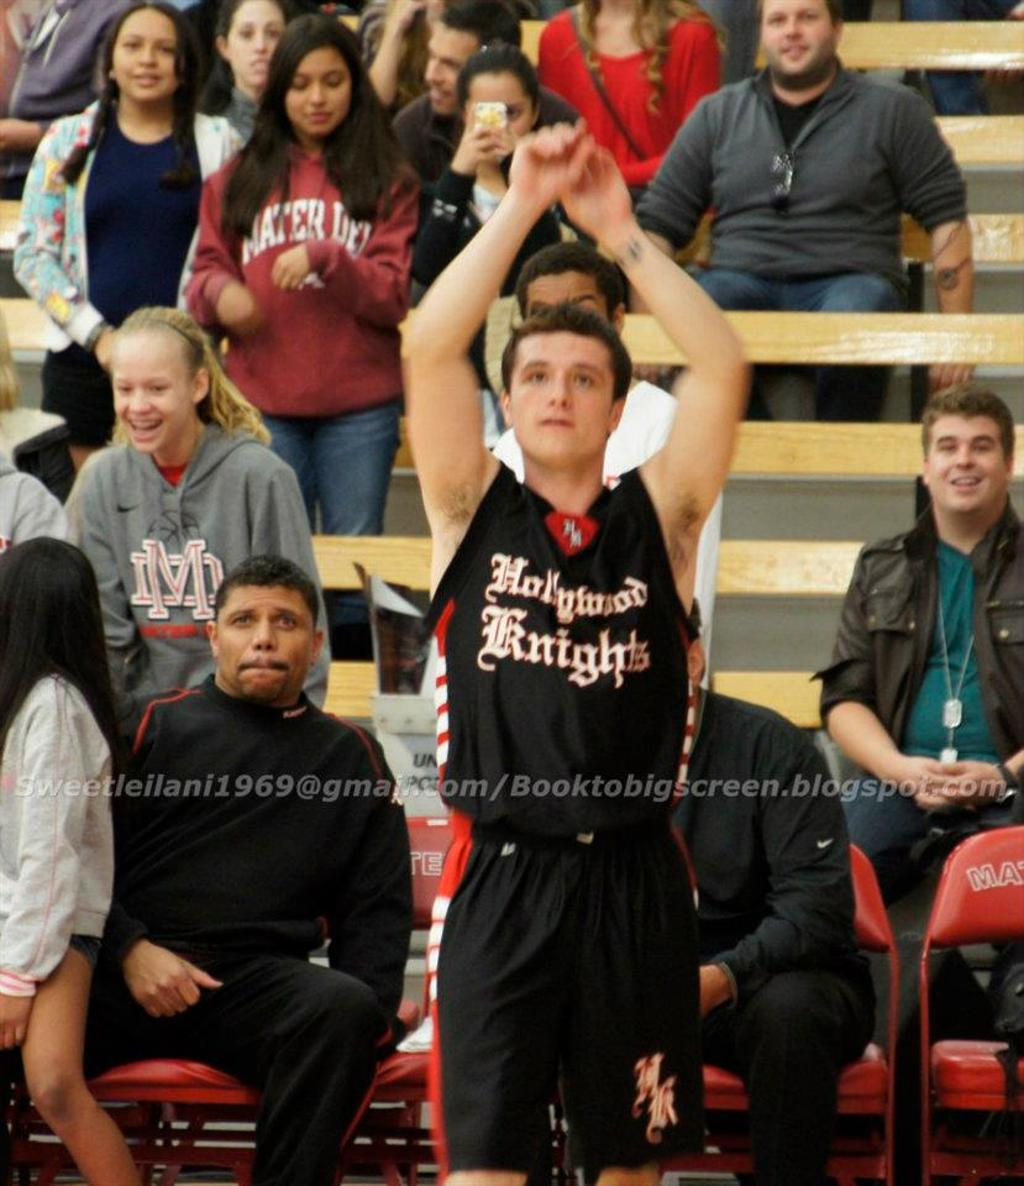face: (508, 323, 615, 469), (216, 576, 313, 696), (522, 277, 612, 393), (115, 332, 201, 450), (928, 404, 1007, 518), (286, 40, 351, 135), (471, 73, 534, 163), (423, 24, 483, 114), (763, 6, 837, 78), (117, 13, 180, 96), (228, 10, 286, 82)
